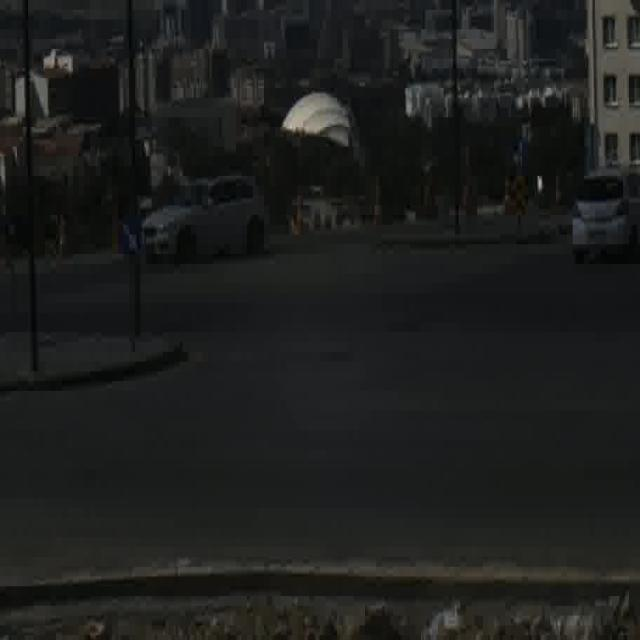Car: (141, 172, 270, 270), (569, 167, 640, 262)
